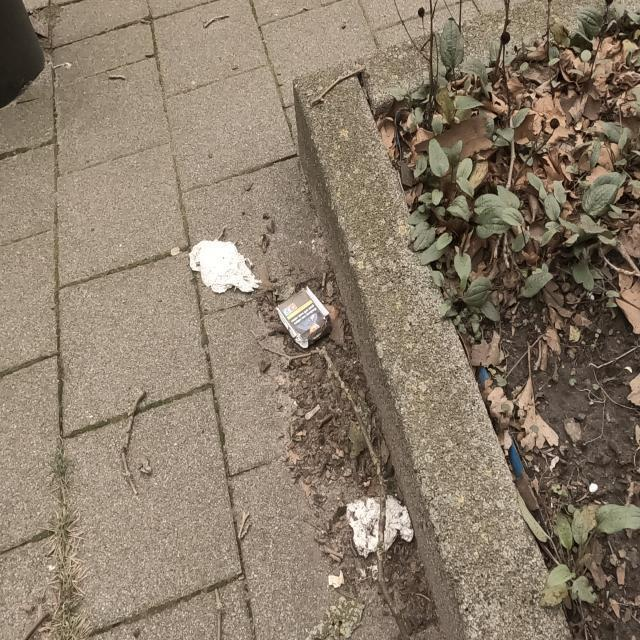Paper: (344, 493, 416, 560), (188, 237, 263, 295), (276, 284, 332, 350), (304, 594, 366, 640)
